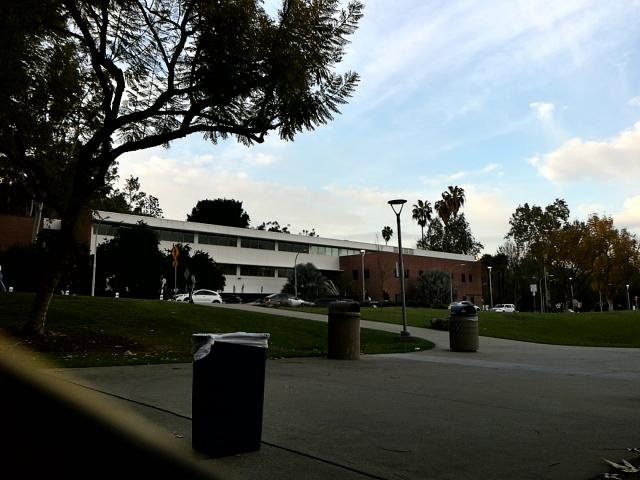trashcan_open: (186, 331, 271, 458)
